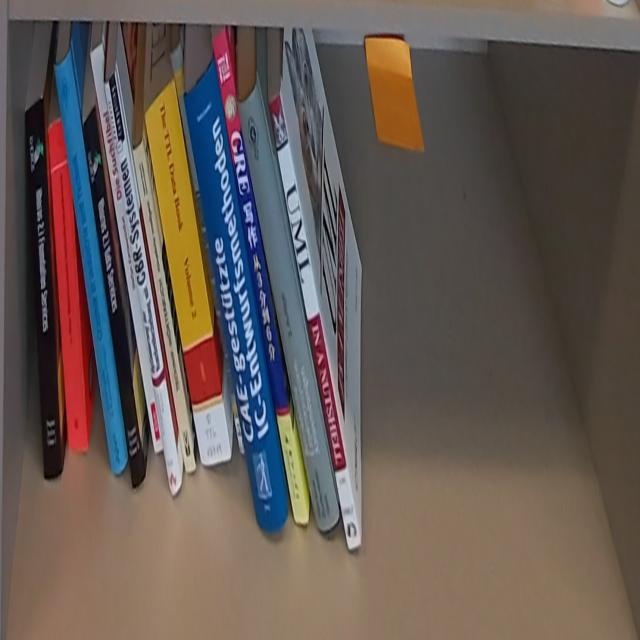Book Spine: (185, 52, 289, 531), (212, 29, 309, 526), (237, 77, 340, 537), (269, 93, 362, 554), (144, 79, 232, 465), (104, 70, 183, 499), (169, 40, 246, 459), (55, 45, 129, 476), (91, 43, 164, 455), (83, 105, 147, 490), (133, 140, 197, 473), (26, 95, 62, 481), (49, 119, 87, 453)
